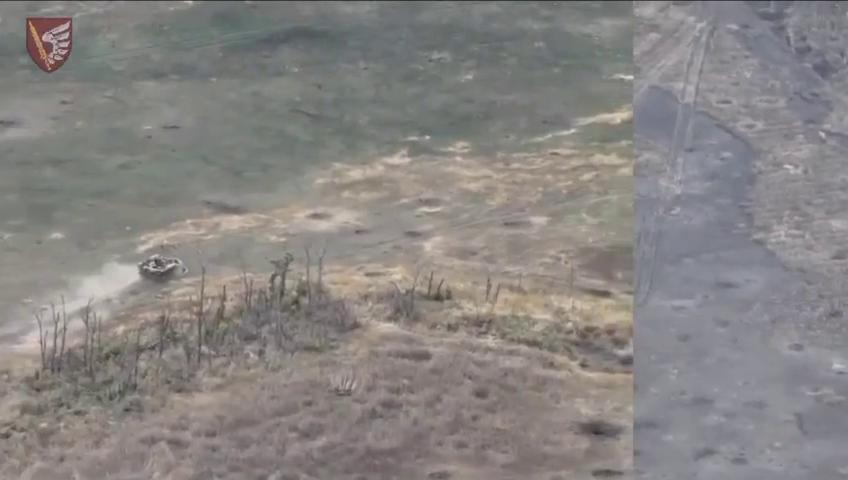tank: (136, 253, 185, 282)
